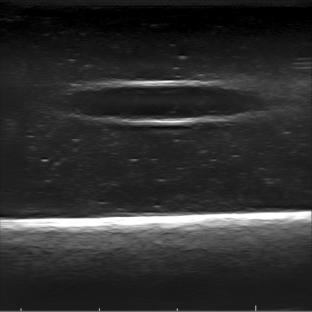vessel: (65, 78, 271, 125)
